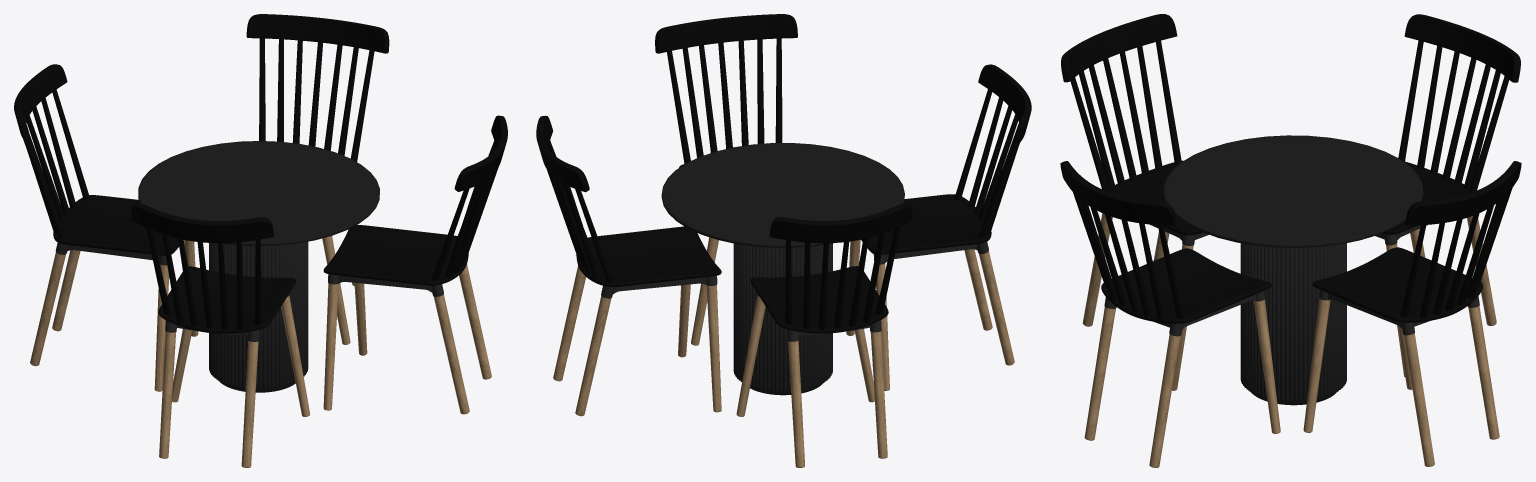
Rendered from dining-table-and-janaina-chair.glb.
3 views of the same model, side by side, from view 1: azimuth 30°, elevation 25°; view 2: azimuth 150°, elevation 25°; view 3: azimuth 270°, elevation 25° (orthographic). The views are drawn at different scales.
Visible parts, largest first — view 1: Table, chair.003, chair.002, chair.001, chair; view 2: Table, chair.001, chair, chair.003, chair.002; view 3: Table, chair, chair.002, chair.003, chair.001.
Part boxes in pixels (x1,y1,x2,y2): Table: (138, 141, 379, 392); chair.003: (131, 203, 310, 467); chair.002: (323, 115, 507, 414); chair.001: (14, 64, 198, 391); chair: (246, 14, 389, 344); Table: (661, 143, 904, 395); chair.001: (736, 203, 912, 467); chair: (536, 115, 721, 416); chair.003: (846, 64, 1031, 390); chair.002: (655, 14, 797, 345); Table: (1163, 135, 1423, 405); chair: (1303, 161, 1521, 466); chair.002: (1060, 161, 1280, 467); chair.003: (1061, 14, 1208, 326); chair.001: (1375, 14, 1520, 376).
Bounding box in the file's own units: 1.78 × 1.19 × 1.79.
Materials: 5 (2 with a texture image).
